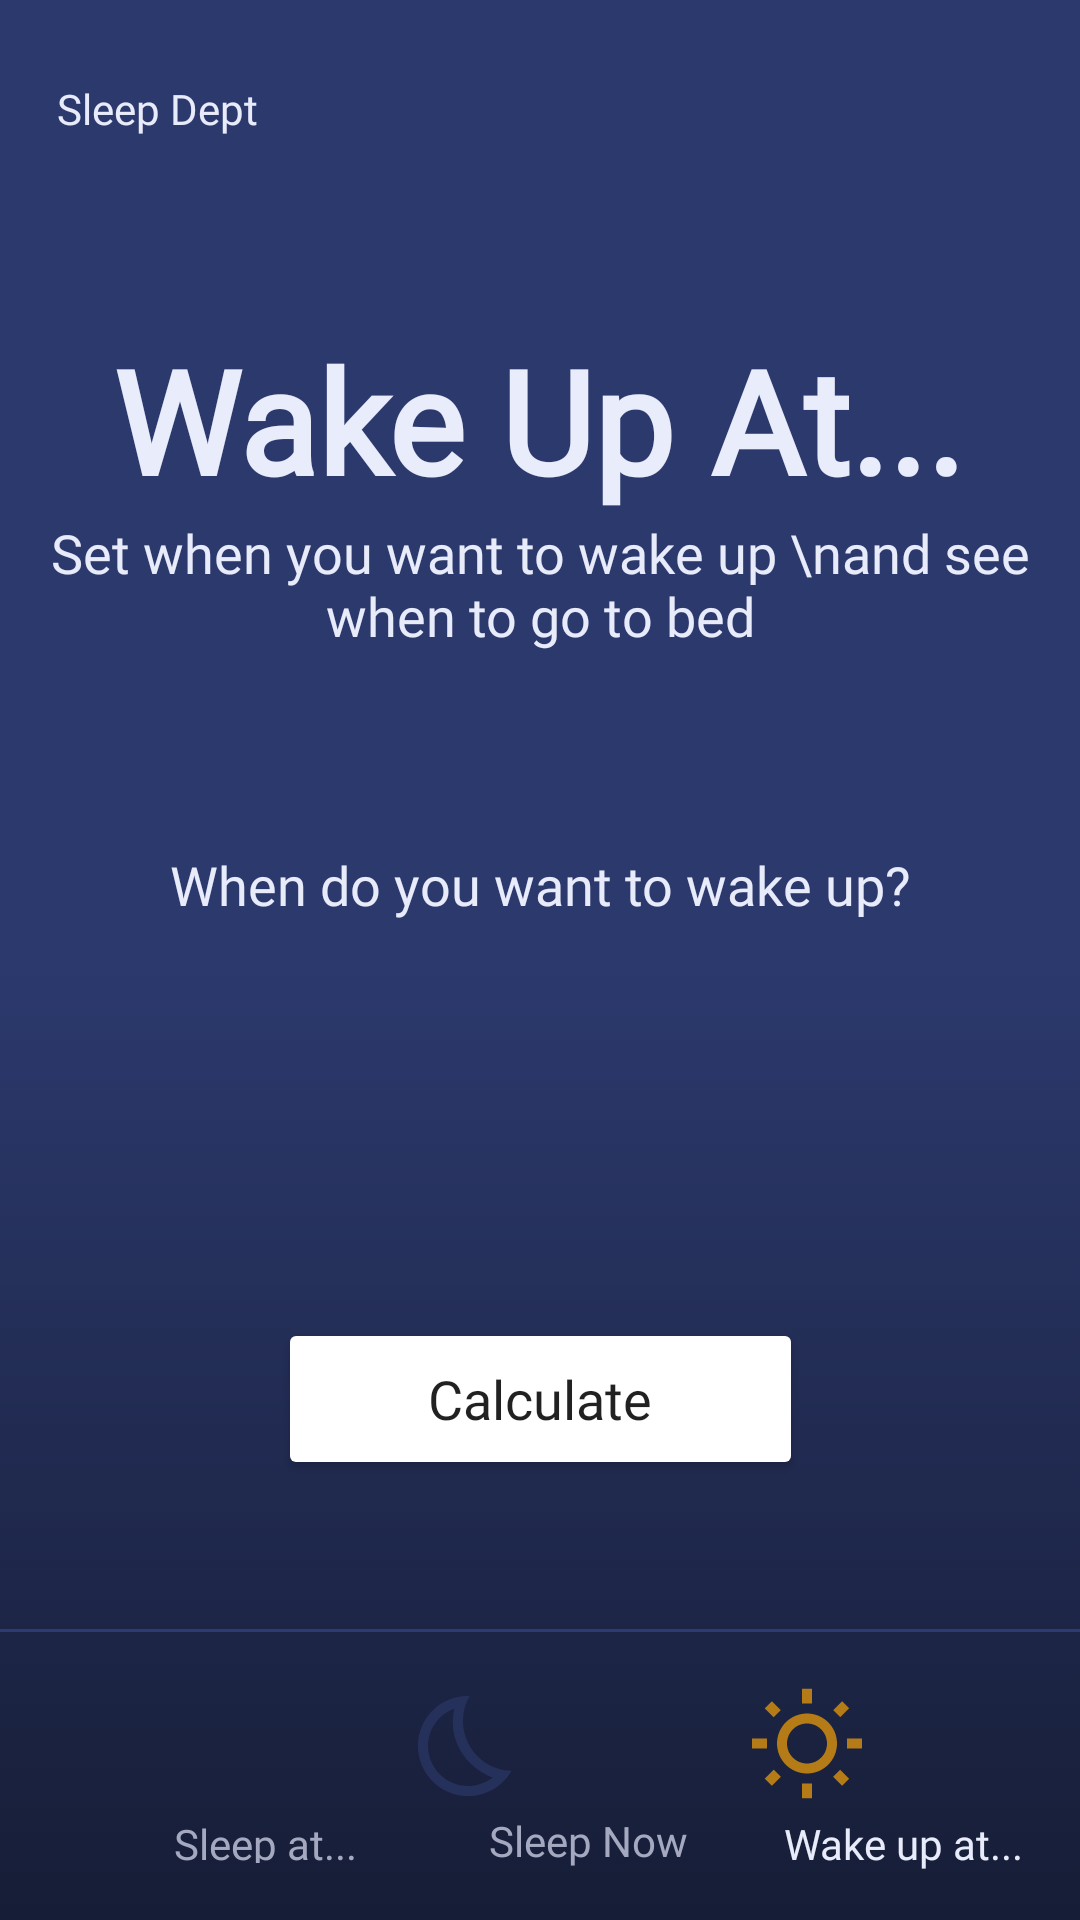

Icons on this 1080w x 1920h Android screen, each with its box as (left=x1, top=y1, right=x2, bottom=y2):
bedtime off: (left=418, top=1696, right=510, bottom=1796)
sunny on: (left=752, top=1688, right=862, bottom=1799)
